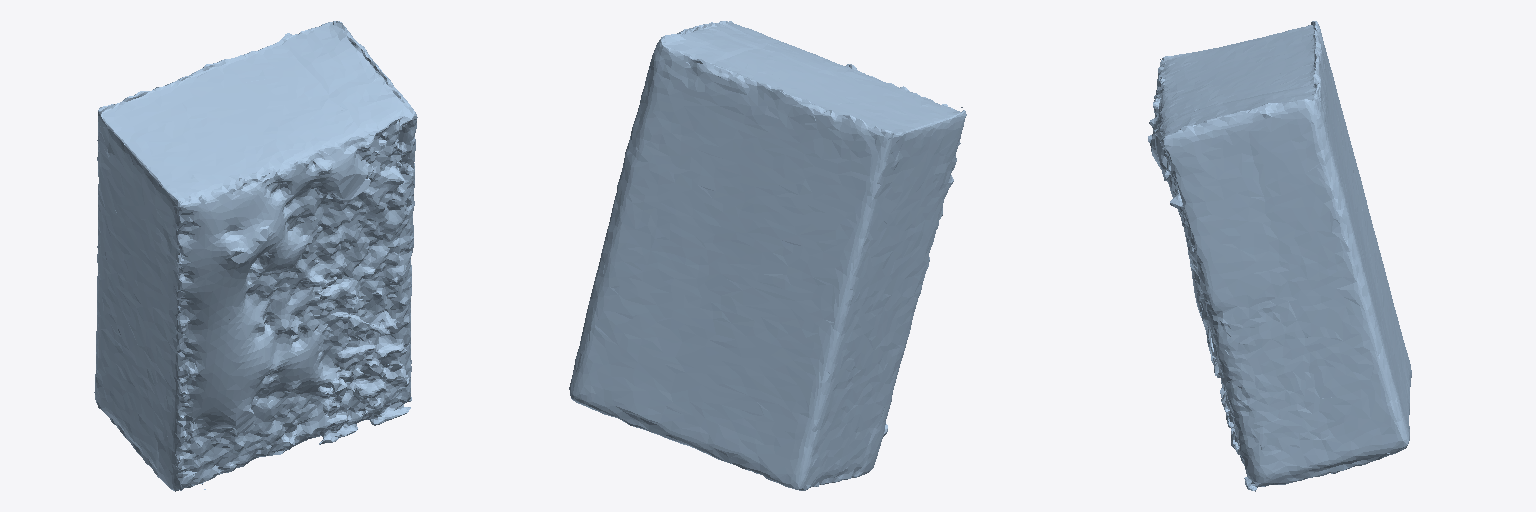
robot.urdf — boxsmall.urdf:
<?xml version="1.0" ?>
<robot name="boxsmall.urdf">
  <dynamics damping="0.5" friction="0.9"/>
  <link name="baseLink">
    <contact>
      <lateral_friction value="0.9"/>
      <rolling_friction value="0.5"/>
      <stiffness value="30000"/>
      <damping value="1000"/>
    </contact>
    <visual>
      <origin rpy="0 0 0" xyz="0 0 0"/>
      <geometry>
        <mesh filename="objects/boxsmall/boxsmall.obj" scale="1.0 1.0 1.0"/>
      </geometry>
       <material name="mat">
        <color rgba="0.7 0.8 0.9 1"/>
      </material>
    </visual>
    <collision>
      <origin rpy="0 0 0" xyz="0 0 0"/>
      <geometry>
         <mesh filename="objects/boxsmall/boxsmall.obj" scale="1.0 1.0 1.0"/>
      </geometry>
    </collision>
  </link>
</robot>

--- Facts derived from the render (not from the file) ---
The picture shows the robot from 3 angles, left to right: view 1: azimuth 30°, elevation 25°; view 2: azimuth 150°, elevation 25°; view 3: azimuth 270°, elevation 25°; orthographic projection.
Model boxsmall.urdf with 1 links and 0 joints (none), rooted at baseLink, posed every joint at zero.
Visible links, largest first — view 1: baseLink; view 2: baseLink; view 3: baseLink.
Link boxes in pixels (box(x1,y1,x2,y2)): baseLink: box(94, 21, 417, 491); baseLink: box(569, 21, 966, 490); baseLink: box(1148, 21, 1411, 491).
Size in the robot's own frame: 0.292 by 0.2381 by 0.3966 metres.
Meshes: 1 distinct files referenced, 1 mesh visuals loaded (1 OBJ).
